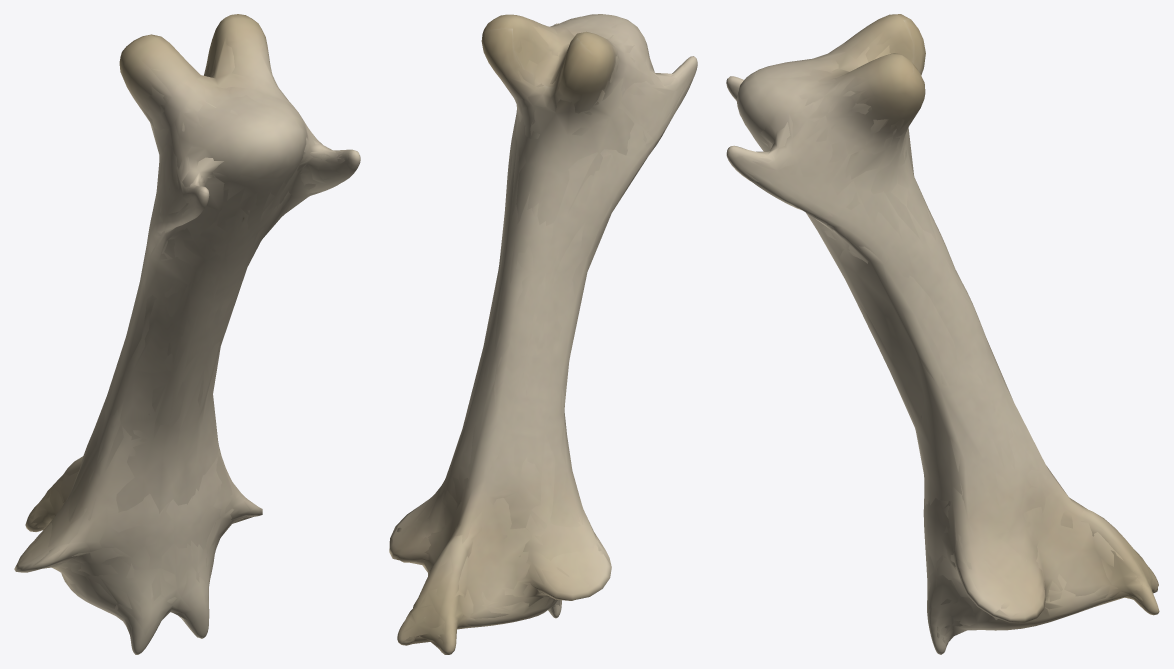
File: vertebrae caudales 07.fbx
The picture shows the model from 3 angles, left to right: view 1: azimuth 30°, elevation 25°; view 2: azimuth 150°, elevation 25°; view 3: azimuth 270°, elevation 25°; orthographic projection. The views are drawn at different scales.
Visible parts, largest first — view 1: vertebrae caudales 07, vertebrae caudales 07 low, vertebrae caudales 07 high; view 2: vertebrae caudales 07, vertebrae caudales 07 low, vertebrae caudales 07 high; view 3: vertebrae caudales 07, vertebrae caudales 07 low, vertebrae caudales 07 high.
Part boxes in pixels (left/top/right/bottom): vertebrae caudales 07: left=14, top=14, right=360, bottom=654; vertebrae caudales 07 low: left=34, top=38, right=341, bottom=640; vertebrae caudales 07 high: left=15, top=14, right=359, bottom=653; vertebrae caudales 07: left=389, top=14, right=696, bottom=654; vertebrae caudales 07 low: left=409, top=23, right=684, bottom=649; vertebrae caudales 07 high: left=390, top=15, right=697, bottom=652; vertebrae caudales 07: left=726, top=14, right=1159, bottom=654; vertebrae caudales 07 low: left=756, top=43, right=1154, bottom=646; vertebrae caudales 07 high: left=726, top=14, right=1158, bottom=653.
Size of the model in its own units: 2.51 by 6.41 by 4.16.
1 material, 1 textured.
